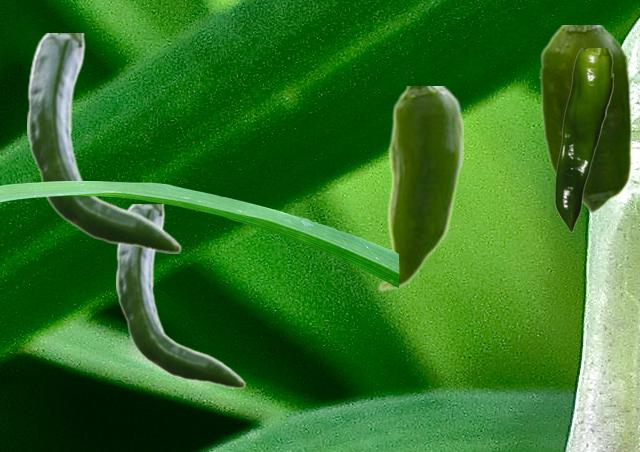green_chili: (27, 33, 181, 252), (116, 204, 245, 387), (376, 86, 462, 291), (539, 25, 631, 212), (554, 48, 612, 231)
